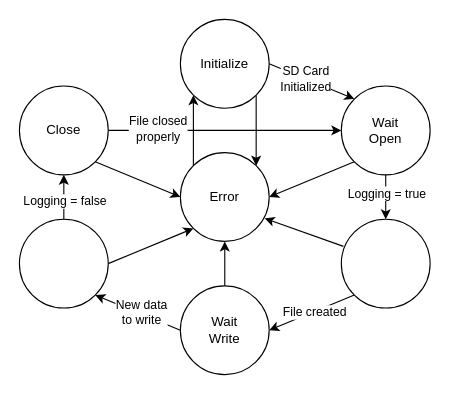
The diagram is 450 pixels wide and 394 high, and some of its shapes have lost their labels. The centre of each missing label's shape, as x and y in pixels:
Open: [385,263]
Write: [63,263]
